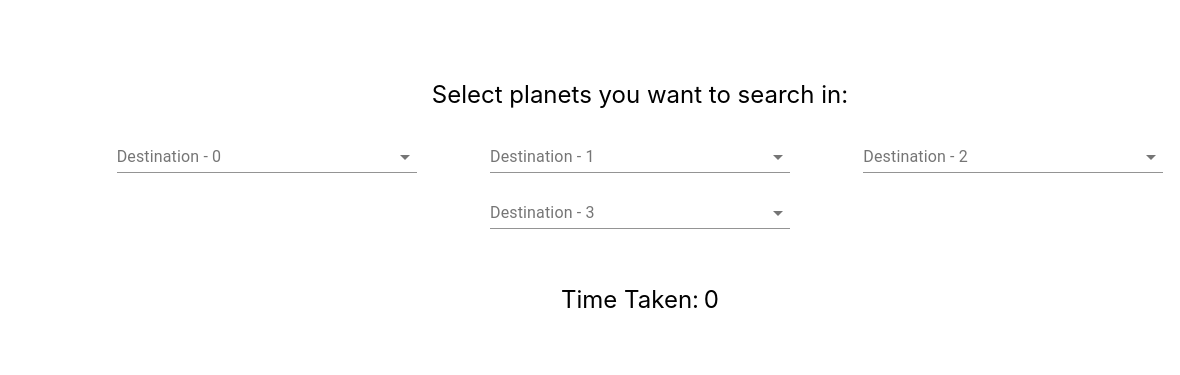
Test case: User › select planet, verify planet is selected and vehicle is visible,       Select vehicle, verify vehicle count is reduced and time taken increases
Note: assign value to input field and select dropdown
Type "Donlon" into the field labelled "Destination - 0" at (239, 156), box [117, 141, 361, 172]
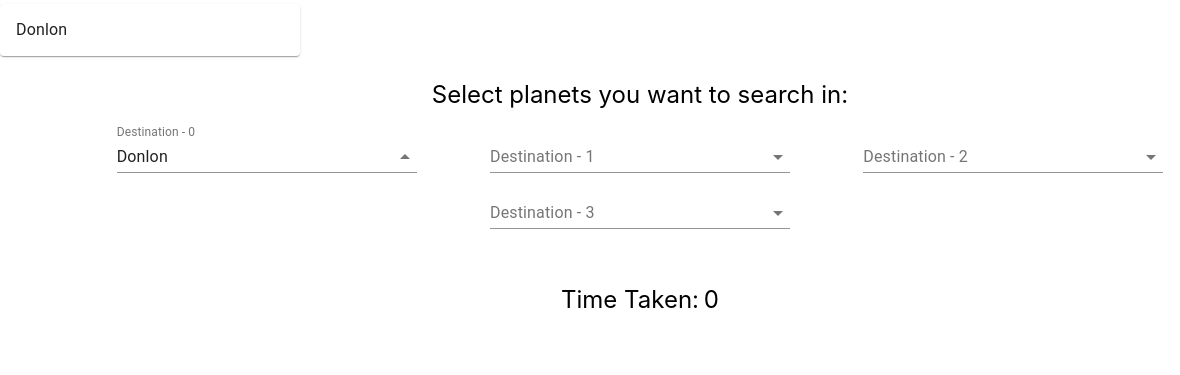
Press ArrowDown in the dropdown with test id "planet-dropdown-0", box [117, 125, 417, 173]
Note: select the first item
Press Enter in the dropdown with test id "planet-dropdown-0", box [117, 125, 417, 173]
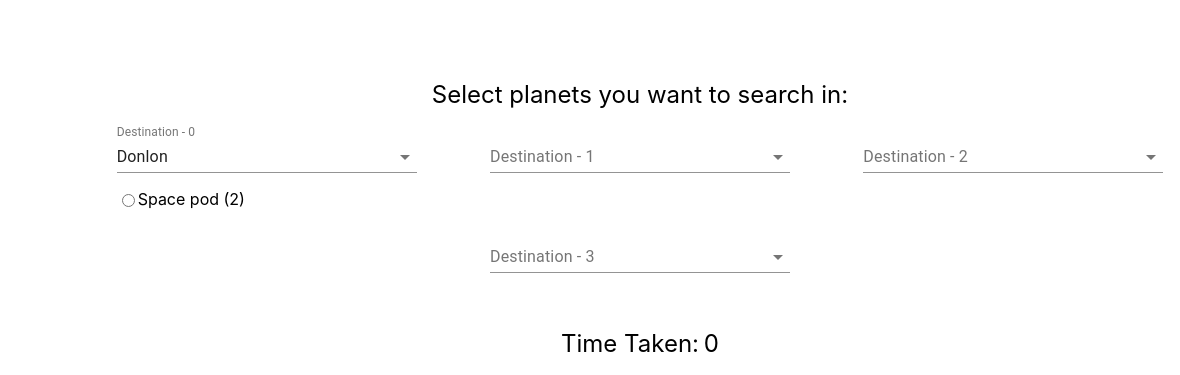
Expected: the text with test id "time-taken" reads "0", [704, 329, 719, 358]
Expected: the text "Space pod (2)" is shown, [122, 189, 245, 209]
Click the radio button with test id "vehicle-selector-0-0" at (128, 200), box [122, 194, 135, 207]
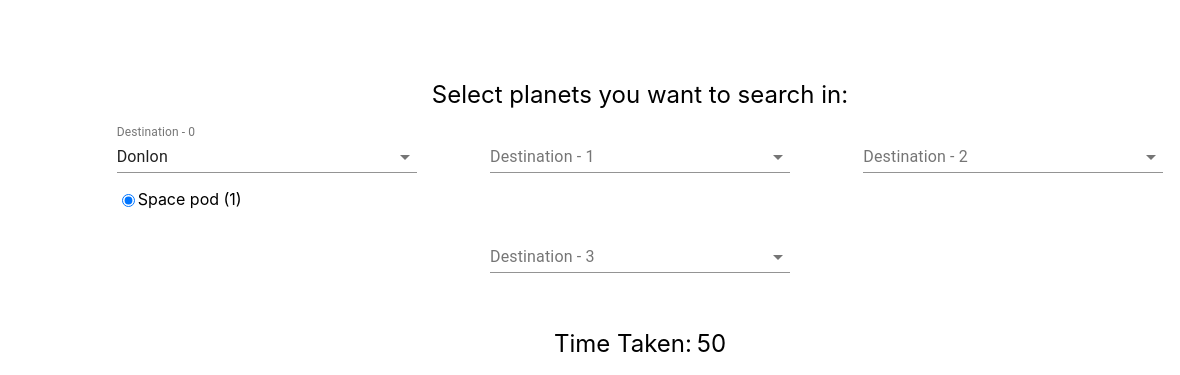
Expected: the text "Space pod (1)" is shown, [122, 189, 242, 209]
Expected: the text with test id "time-taken" reads "50", [697, 329, 726, 358]
